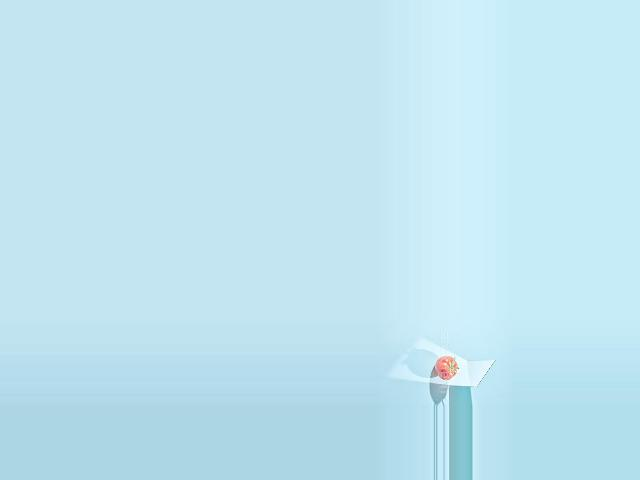tomato: (434, 356, 457, 380)
